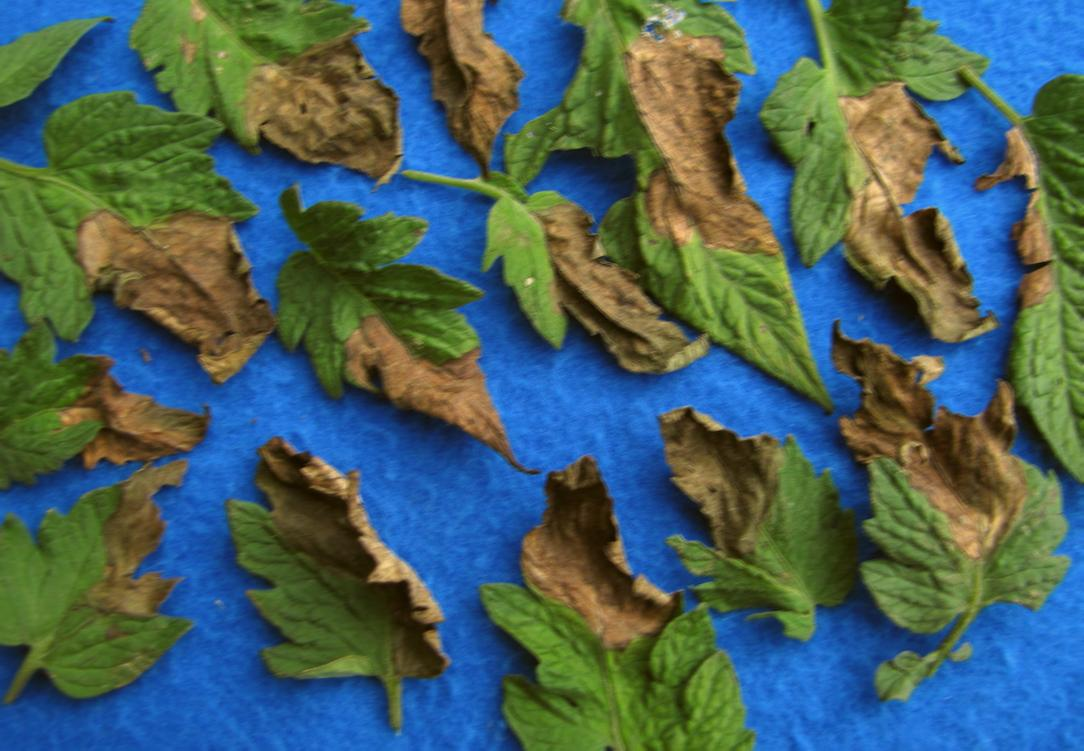Tomato leaf late blight: (574, 0, 816, 391), (821, 324, 1071, 696), (485, 463, 768, 751), (769, 0, 992, 351), (222, 429, 463, 710), (263, 196, 514, 439), (626, 402, 889, 627), (441, 179, 713, 383), (103, 0, 406, 177), (0, 457, 190, 721), (984, 58, 1084, 506), (0, 347, 217, 477)
